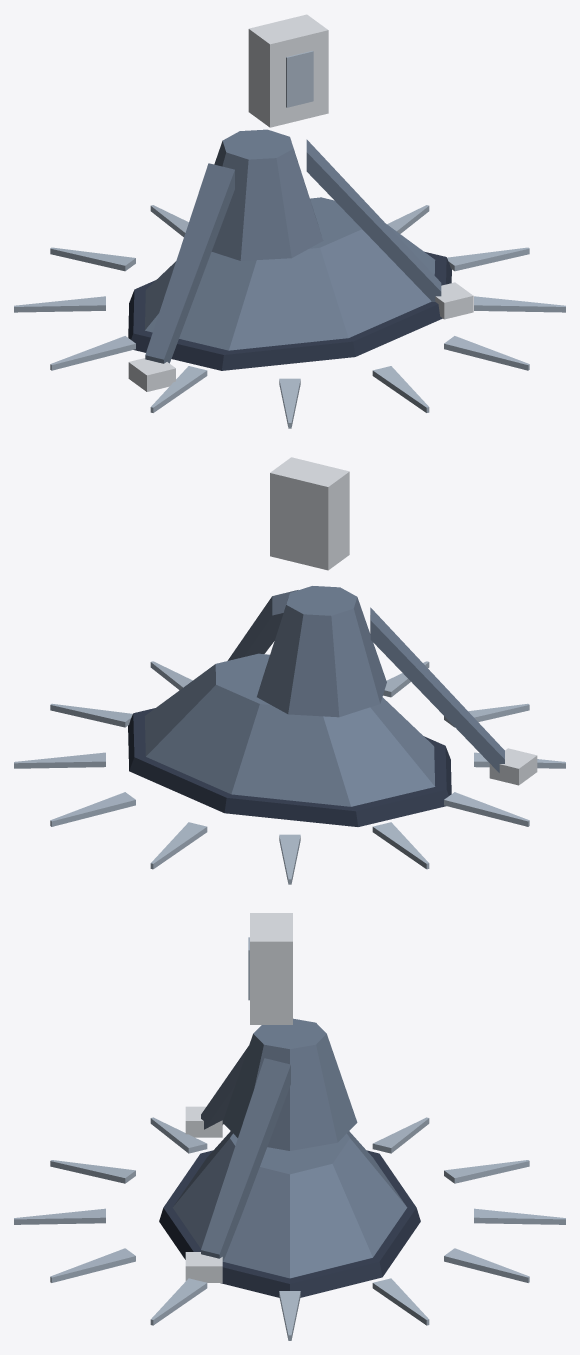
Rendered from Unbound.glb.
3 renders of one model, top to bottom at view 1: azimuth 30°, elevation 25°; view 2: azimuth 150°, elevation 25°; view 3: azimuth 270°, elevation 25°, orthographic.
Visible parts, largest first — view 1: Unbound; view 2: Unbound; view 3: Unbound.
Boxes of the visible parts, left/top/right/bottom form: Unbound: left=14, top=14, right=565, bottom=428; Unbound: left=14, top=457, right=565, bottom=884; Unbound: left=14, top=913, right=565, bottom=1340.
Size of the model in its own units: 9 by 5.25 by 9.
Materials: 1 (1 with a texture image).
